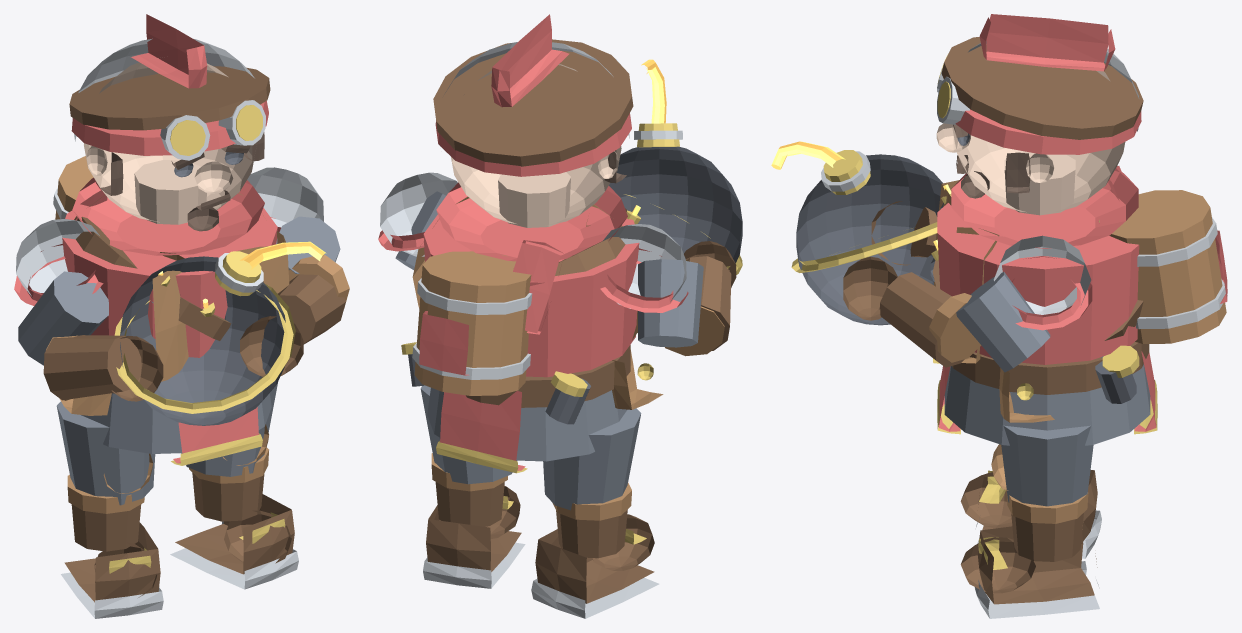
The model's file is bombardero.glb.
The picture shows the model from 3 angles, left to right: view 1: azimuth 30°, elevation 25°; view 2: azimuth 150°, elevation 25°; view 3: azimuth 270°, elevation 25°; orthographic projection.
Visible parts, largest first — view 1: Bombardero; view 2: Bombardero; view 3: Bombardero.
Boxes of the visible parts, bbox=[...] form: Bombardero: bbox=[14, 14, 349, 618]; Bombardero: bbox=[378, 14, 742, 618]; Bombardero: bbox=[771, 14, 1227, 618].
Size of the model in its own units: 0.7386 by 1.24 by 0.9305.
